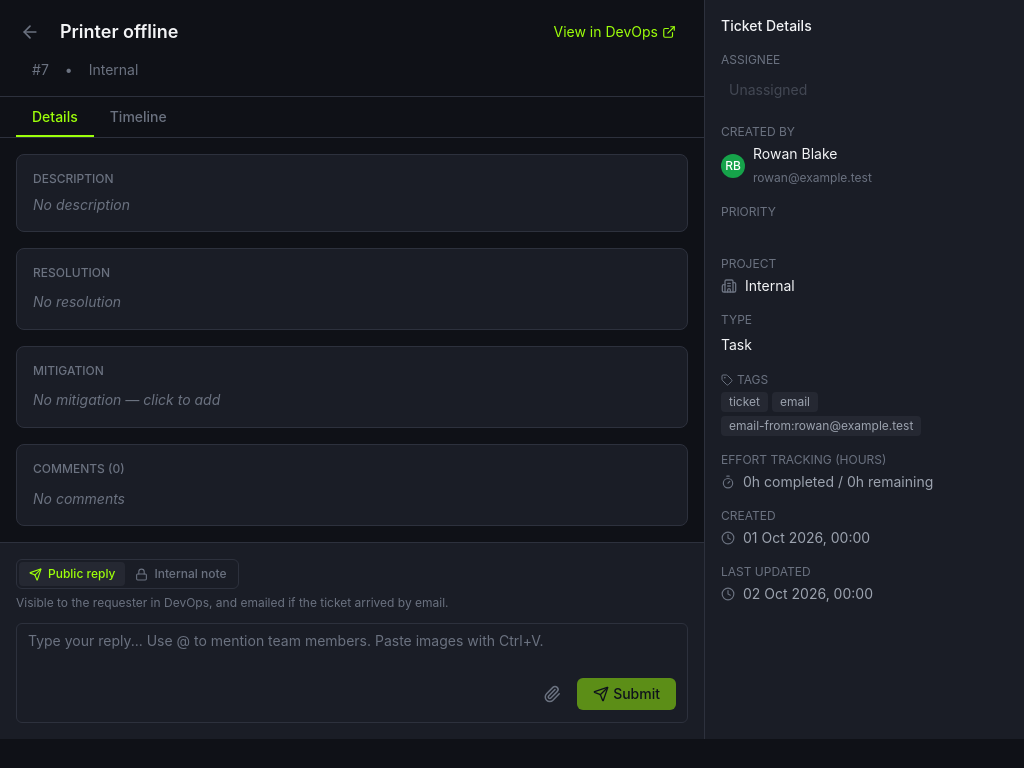
Test: timeline attribution of an emailed ticket › falls back to the live tags while the history has not arrived
Click the button "Timeline" at (138, 117), box [94,97,183,137]
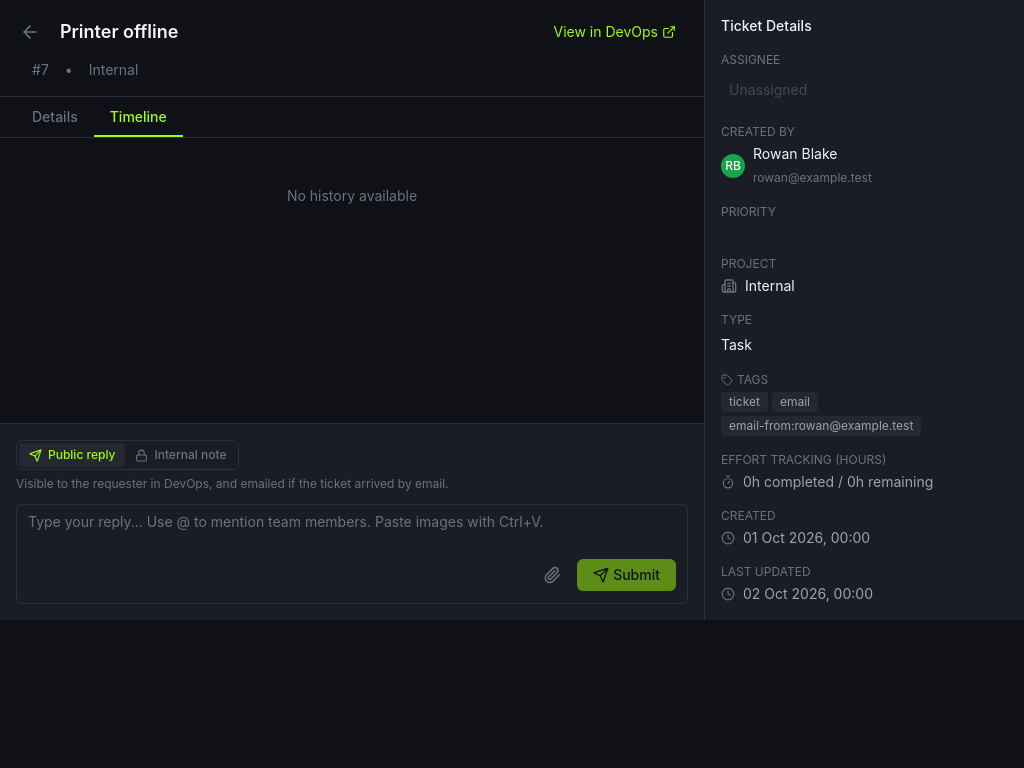
Result: the text "No history available" is shown at [287,187,417,204]
